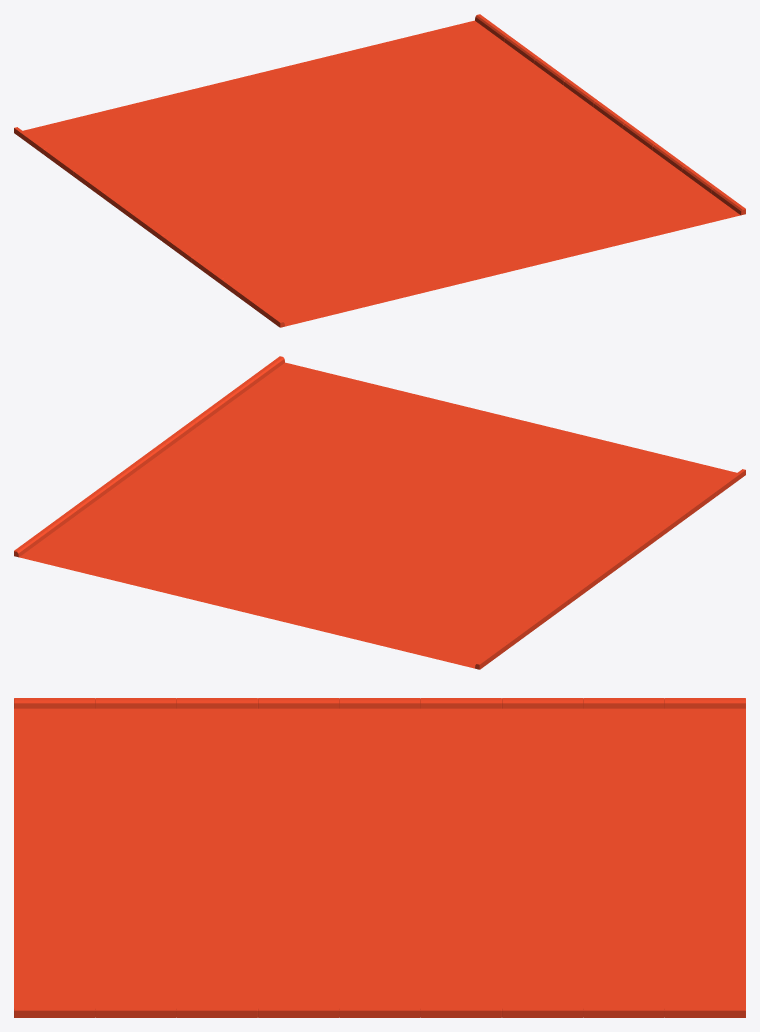
The model's file is SM_Road_Stop_Middle_10x10_City.fbx.
3 renders of one model, top to bottom at view 1: azimuth 30°, elevation 25°; view 2: azimuth 150°, elevation 25°; view 3: azimuth 270°, elevation 25°, orthographic. The views are drawn at different scales.
Visible parts, largest first — view 1: SM_Road_Stop_Middle_10x10_City; view 2: SM_Road_Stop_Middle_10x10_City; view 3: SM_Road_Stop_Middle_10x10_City.
Boxes of the visible parts, x1,y1,x2,y2 form: SM_Road_Stop_Middle_10x10_City: [14, 14, 745, 327]; SM_Road_Stop_Middle_10x10_City: [14, 356, 745, 669]; SM_Road_Stop_Middle_10x10_City: [14, 698, 745, 1017].
Bounding box in the file's own units: 10.11 × 0.1084 × 10.
